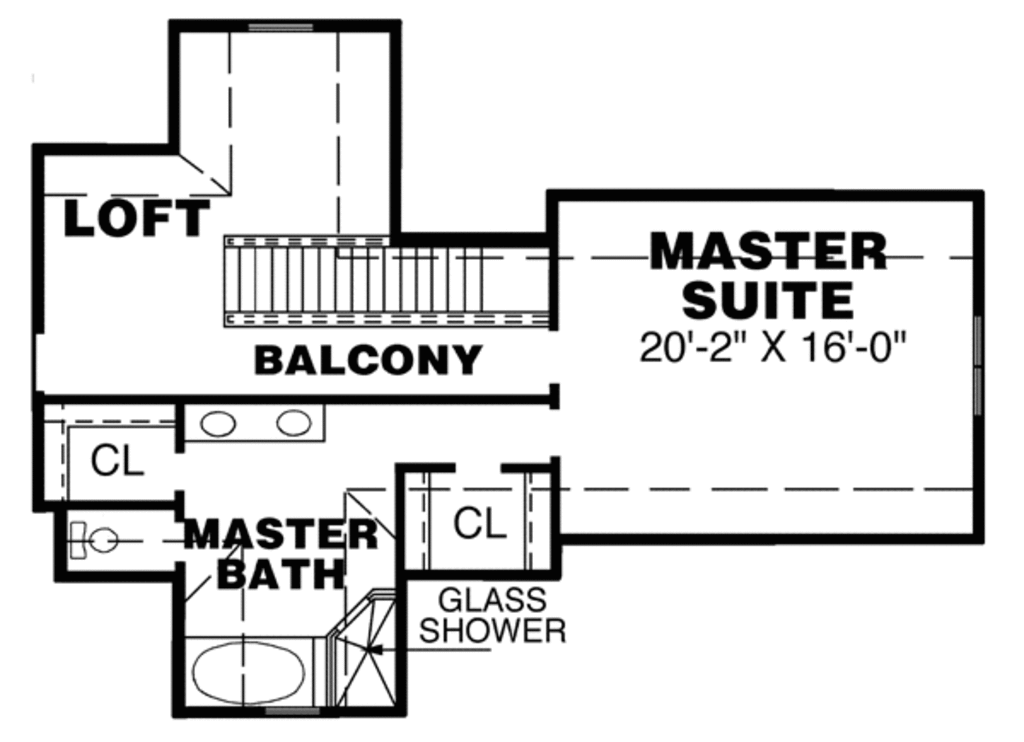large_sink: (65, 520, 131, 563)
small_sink: (179, 401, 331, 462)
stairs: (211, 225, 562, 344)
tub: (186, 635, 328, 710)
